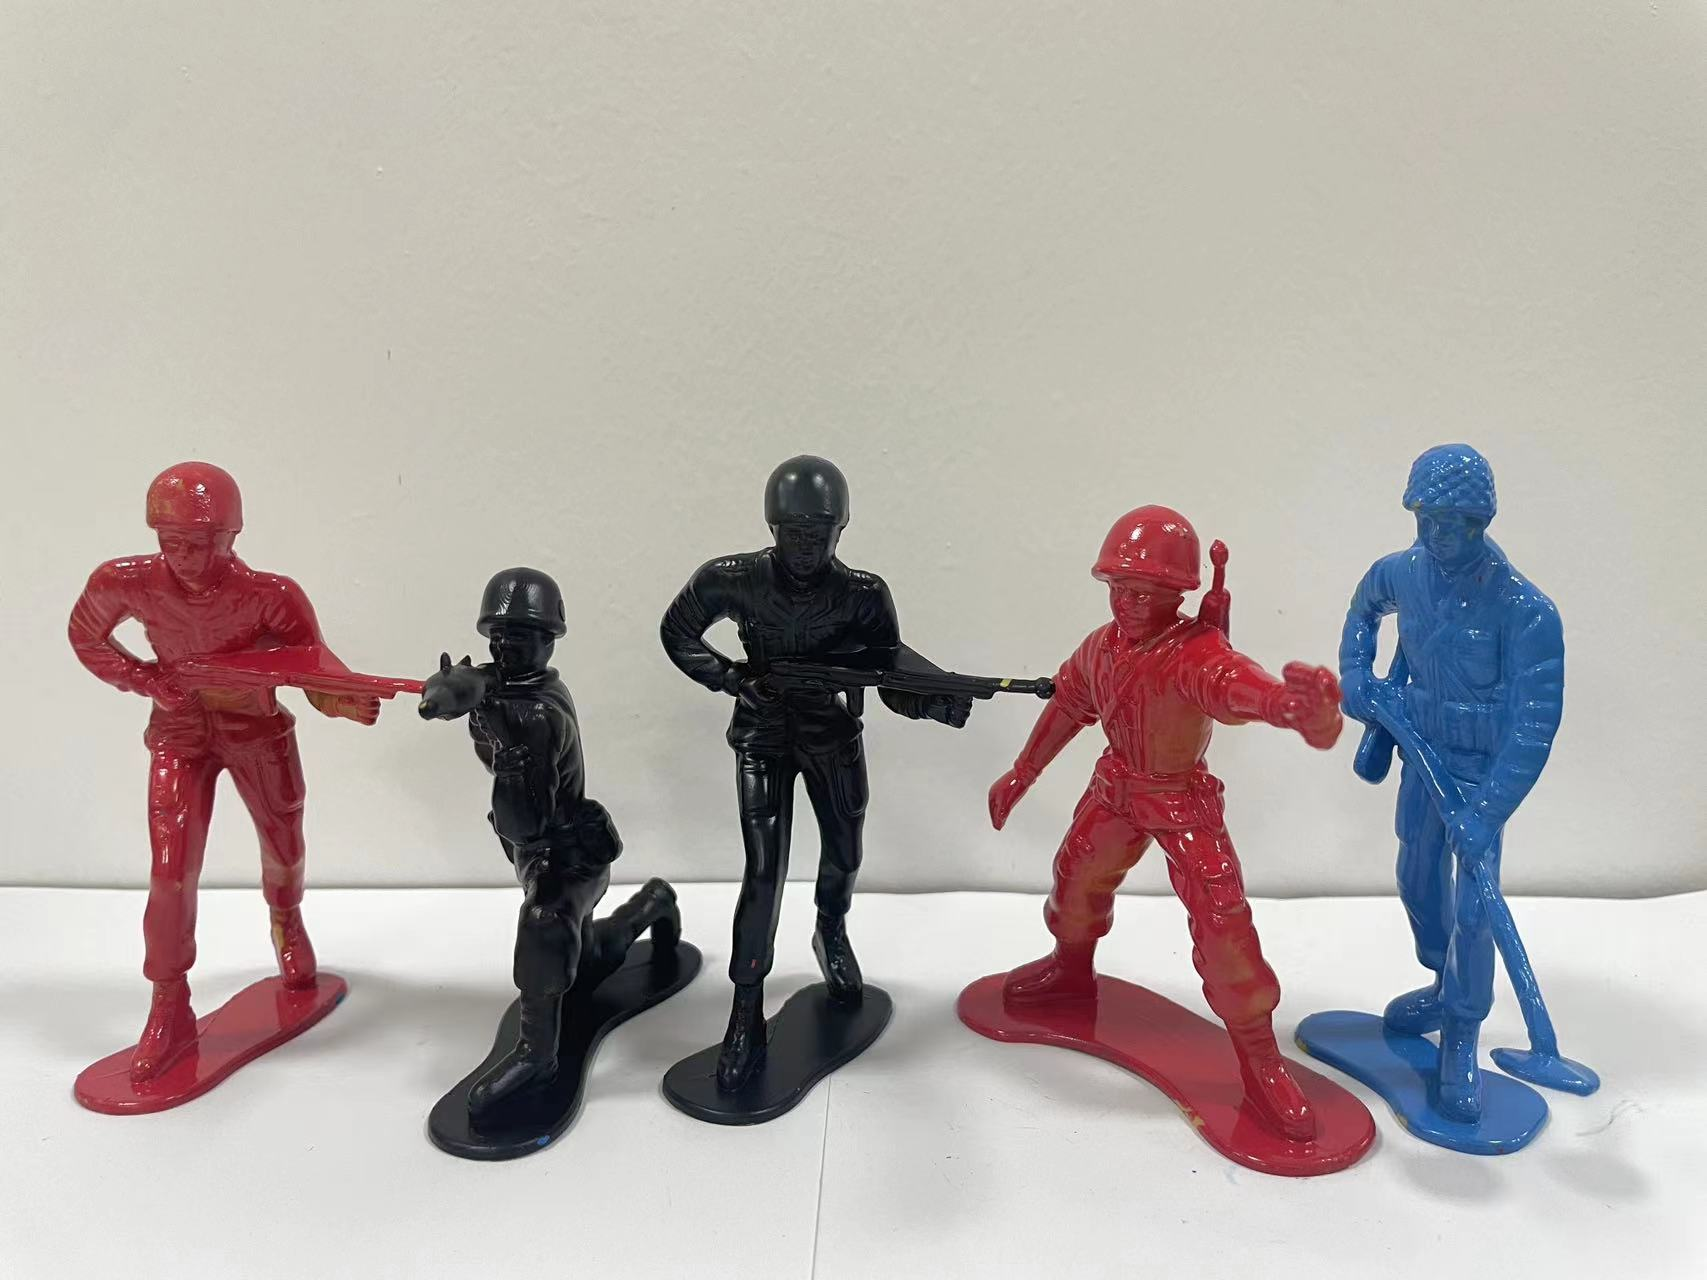black: (634, 391, 983, 1150), (421, 541, 681, 1176)
blue: (1320, 409, 1644, 1209)
red: (60, 421, 406, 1125), (983, 469, 1315, 1191)
